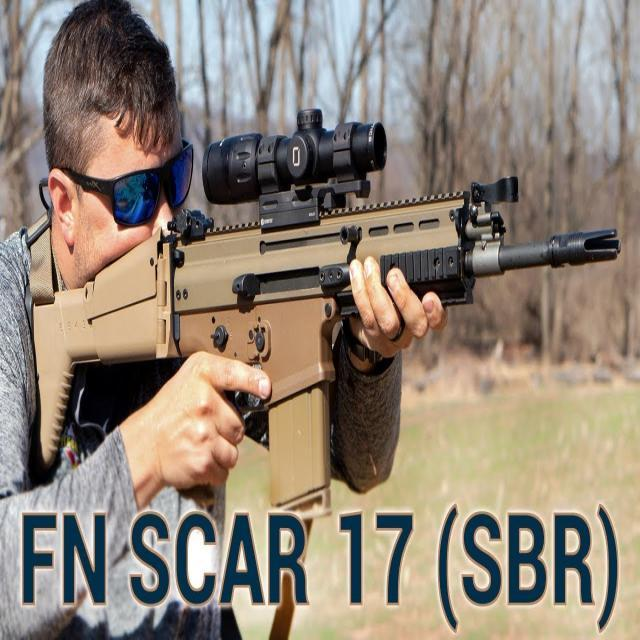Rifle: (24, 111, 614, 516)
